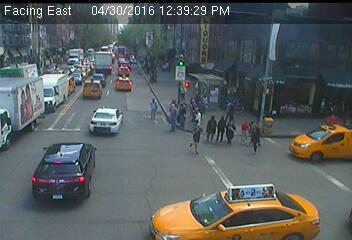pos: (243, 117, 268, 150), (187, 120, 211, 152), (166, 102, 188, 132), (223, 119, 243, 145), (145, 95, 164, 120), (201, 110, 220, 134), (215, 116, 231, 137), (226, 98, 241, 118), (326, 112, 339, 129)
